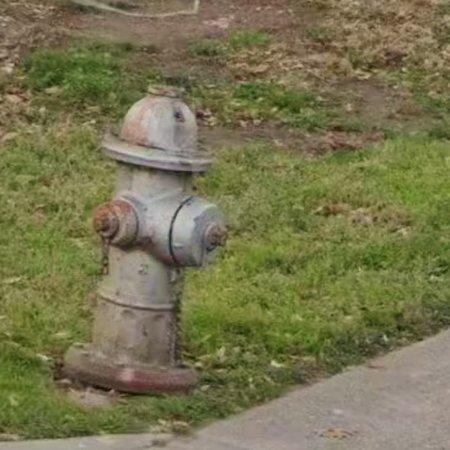a fire hydrant: (64, 87, 227, 393)
